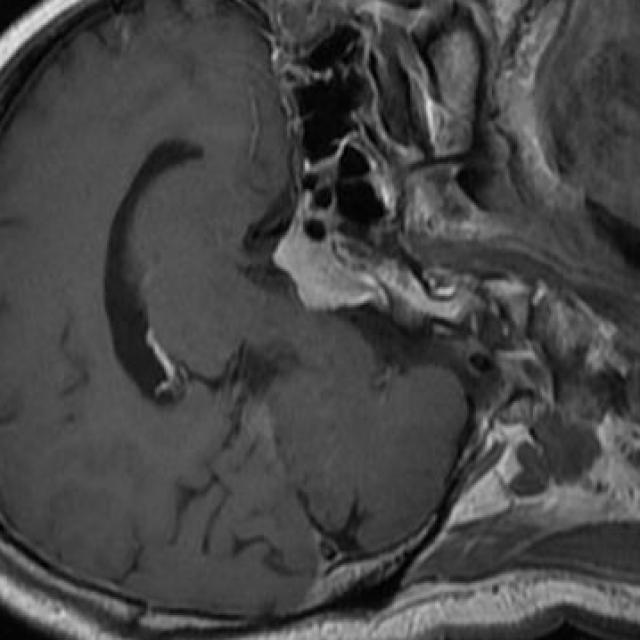meningioma: (273, 207, 390, 310)
